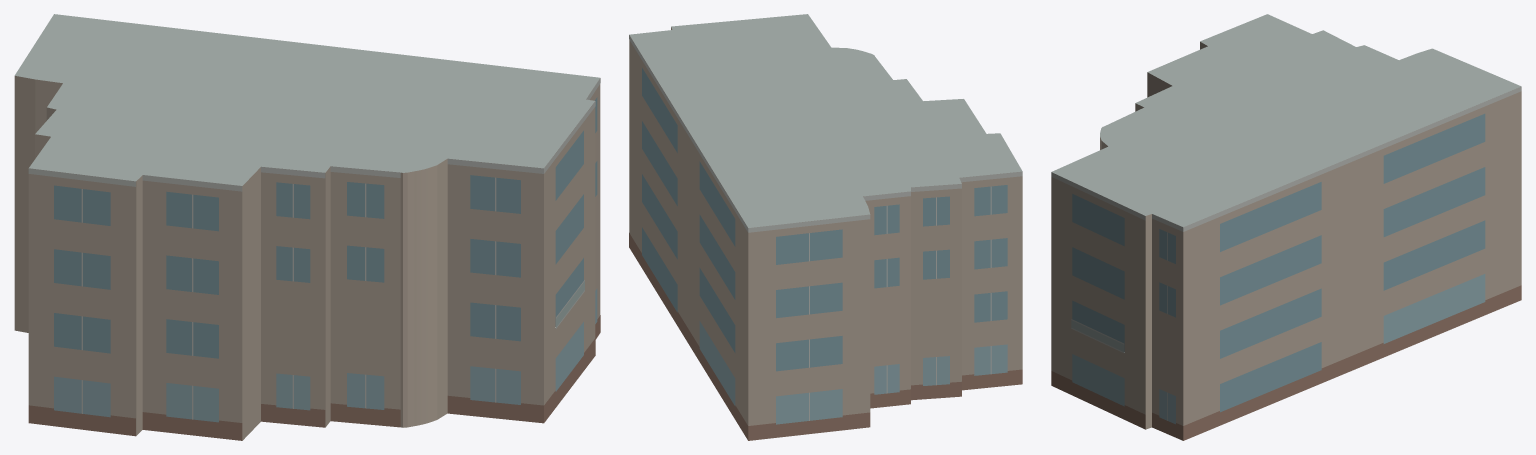
Rendered from survey-upis-32662116.glb.
3 renders of one model, left to right at view 1: azimuth 30°, elevation 25°; view 2: azimuth 150°, elevation 25°; view 3: azimuth 270°, elevation 25°, orthographic. The views are drawn at different scales.
Visible parts, largest first — view 1: survey-upis-32662116.tmp; view 2: survey-upis-32662116.tmp; view 3: survey-upis-32662116.tmp.
Boxes of the visible parts, x1,y1,x2,y2 form: survey-upis-32662116.tmp: [14, 14, 600, 440]; survey-upis-32662116.tmp: [629, 14, 1022, 440]; survey-upis-32662116.tmp: [1051, 14, 1521, 440].
Bounding box in the file's own units: 23.78 × 11.1 × 22.17.
